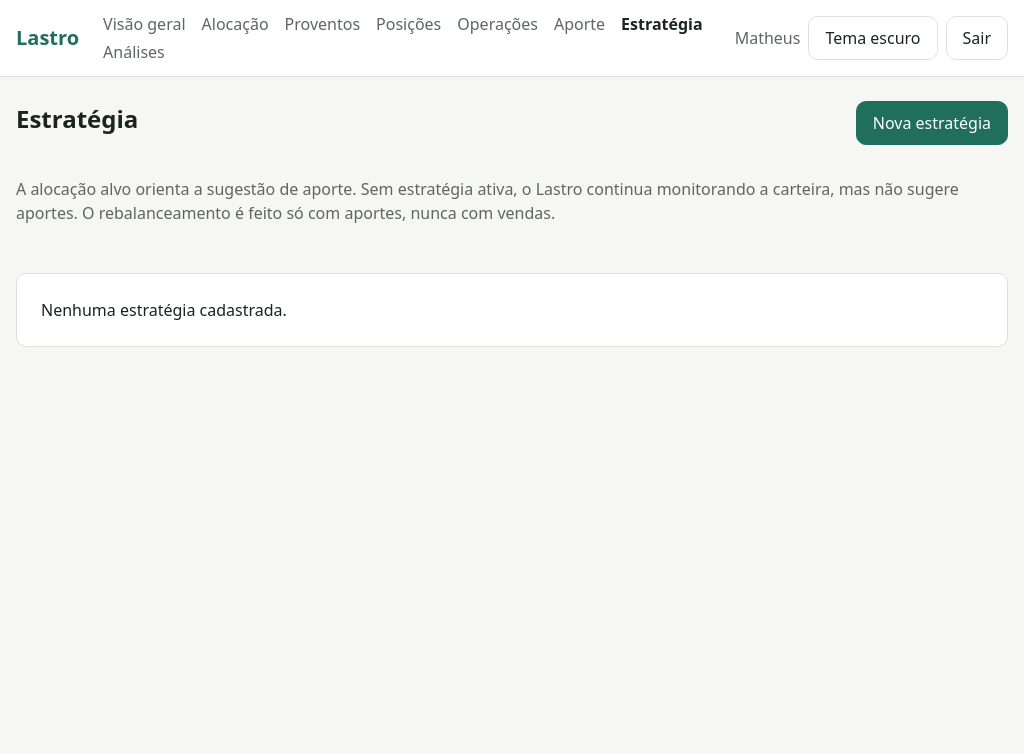
Scenario: StrategyPage › requires targets adding up to 100% before saving
The image size is (1024, 754).
Click the button "Nova estratégia".
click(932, 123)  # box [856, 101, 1008, 145]
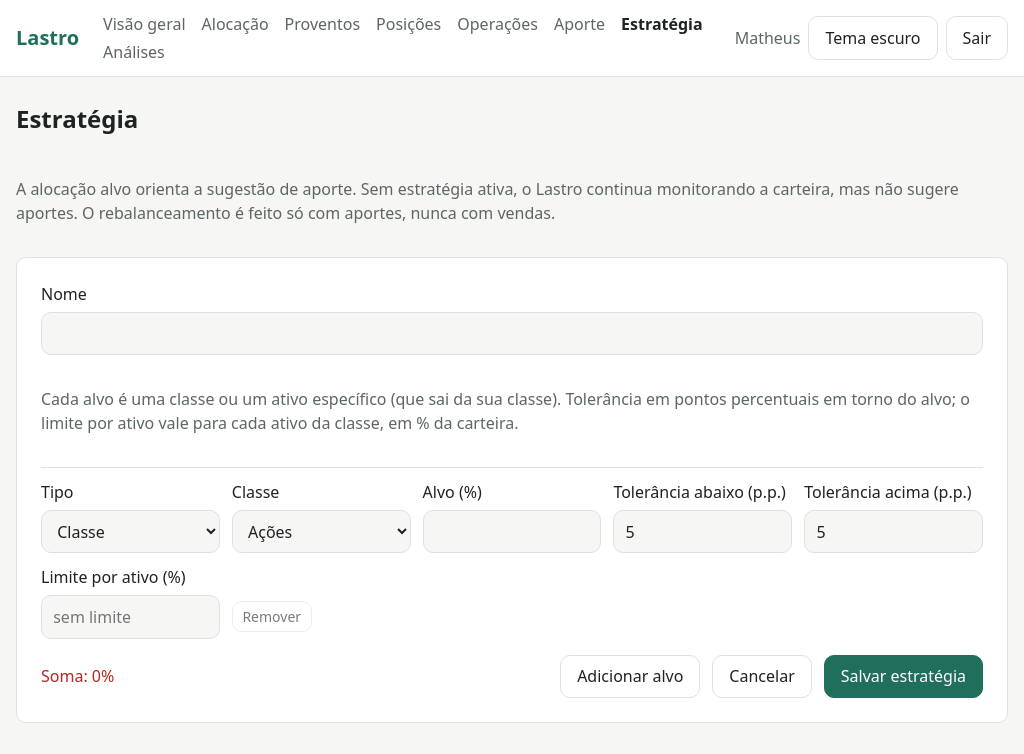
Type "Renda" into the field labelled "Nome".
click(512, 333); type("Renda")  # box [41, 312, 983, 355]
Type "60" into the field labelled "Alvo (%)".
click(512, 532); type("60")  # box [423, 510, 601, 553]
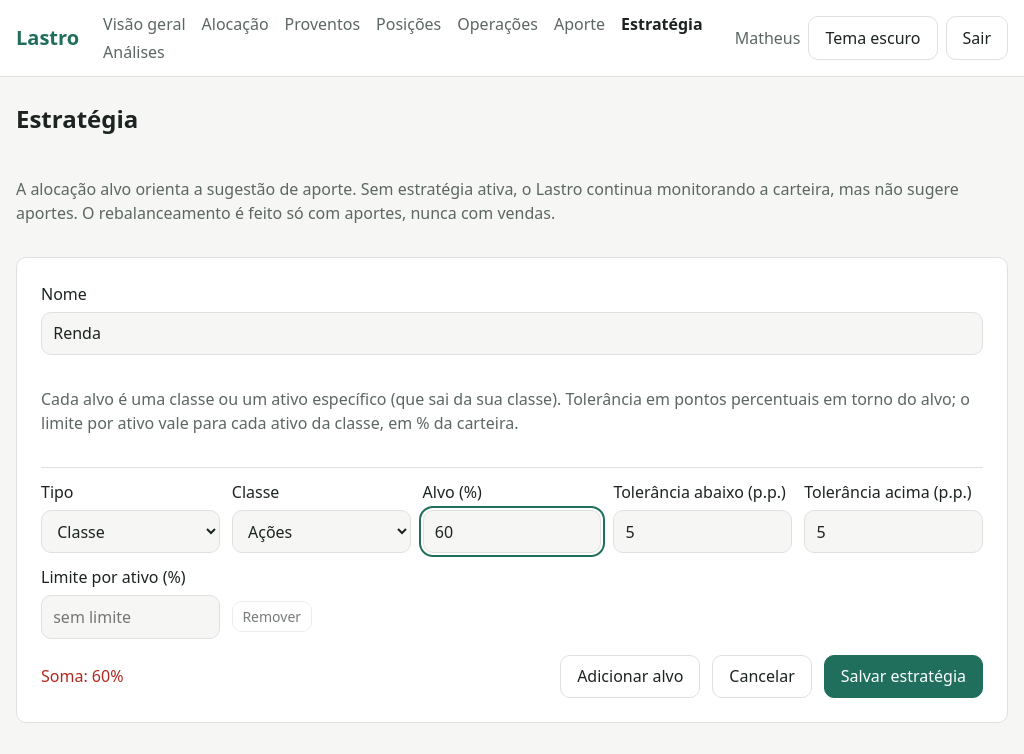
Click the button "Salvar estratégia".
click(903, 676)  # box [824, 655, 983, 698]
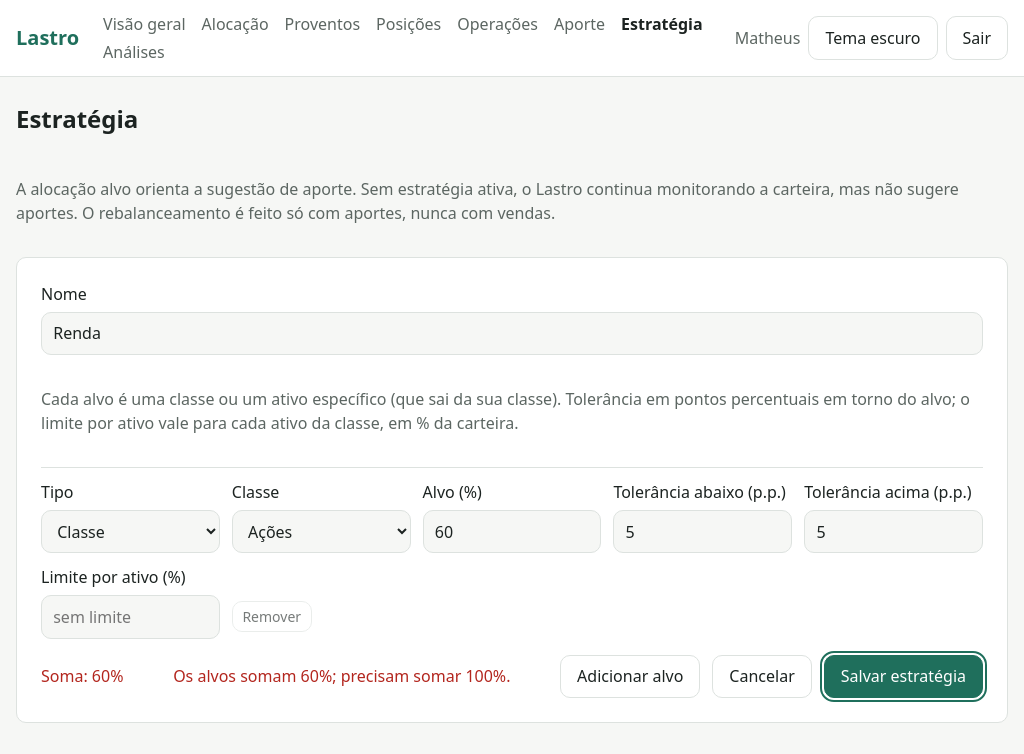
Expected: the text "Os alvos somam 60%; precisam somar 100%." is shown, [173, 664, 510, 688]
Click the button "Adicionar alvo".
click(630, 676)  # box [560, 655, 700, 698]
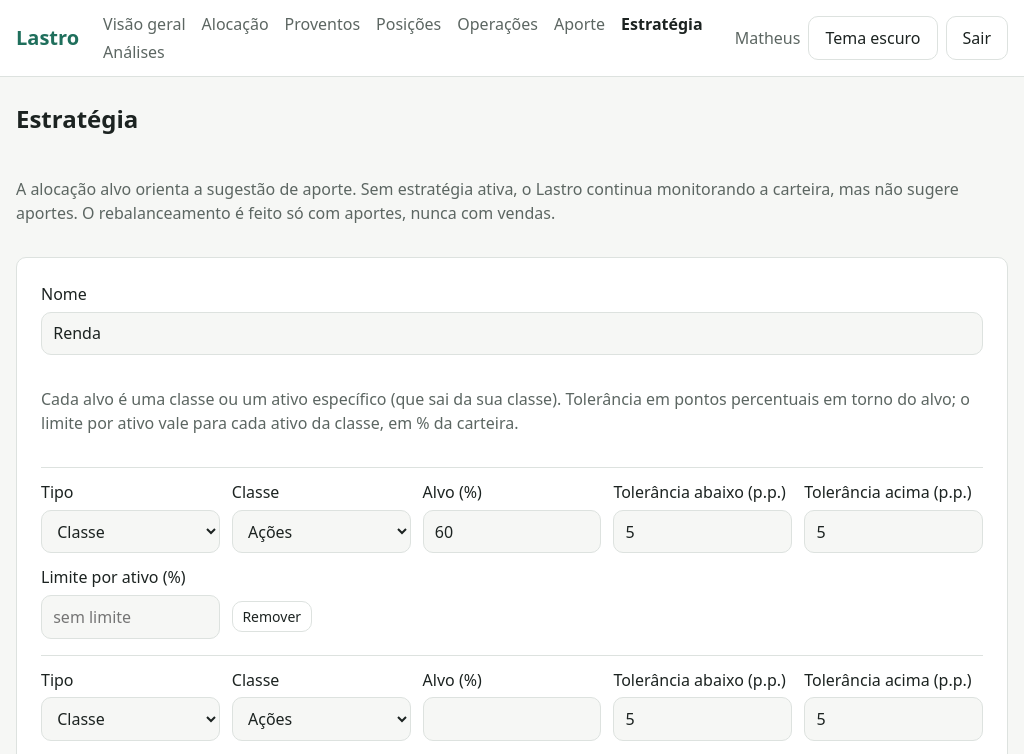
Select "FIIs" in the 2nd dropdown labelled "Classe" at [321, 719], box [232, 697, 411, 741]
Type "40" into the 2nd field labelled "Alvo (%)".
click(512, 719); type("40")  # box [423, 697, 601, 741]
(page scrolled)
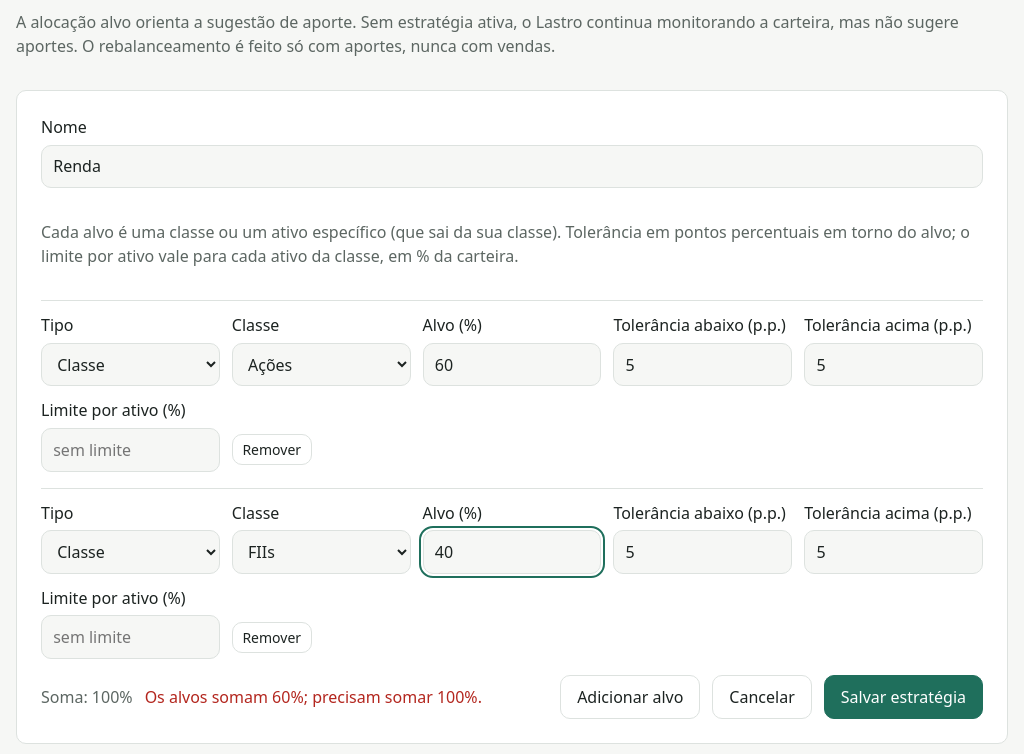
Click the button "Salvar estratégia".
click(903, 697)  # box [824, 675, 983, 718]
(page scrolled)
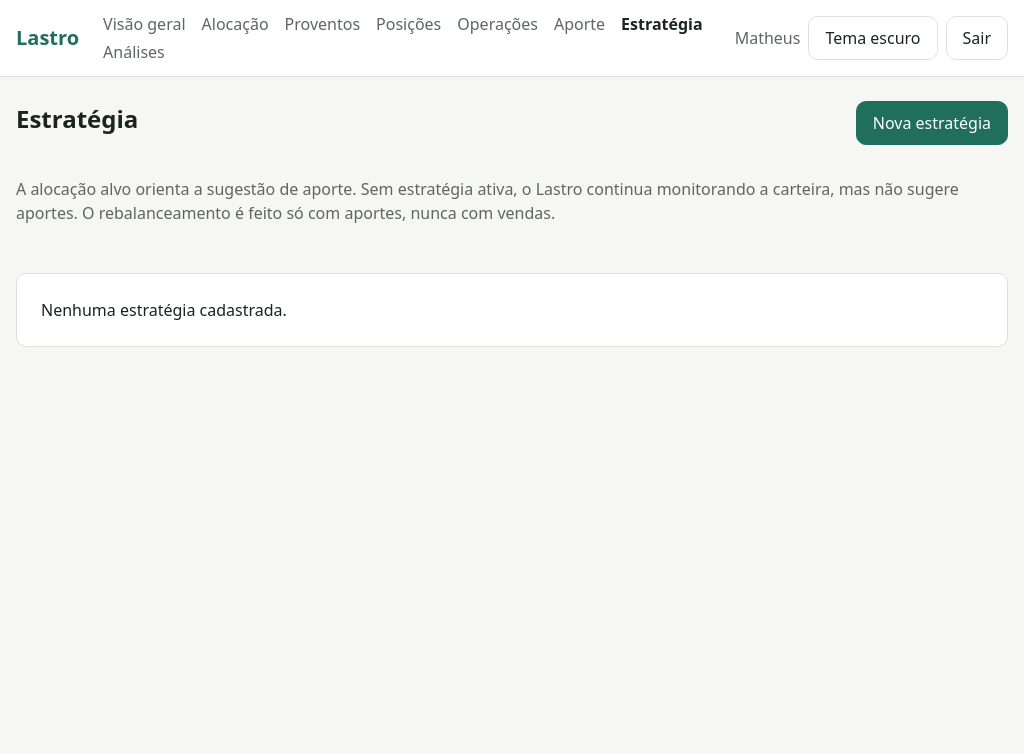
Expected: the button "Nova estratégia" is shown, [856, 101, 1008, 145]
